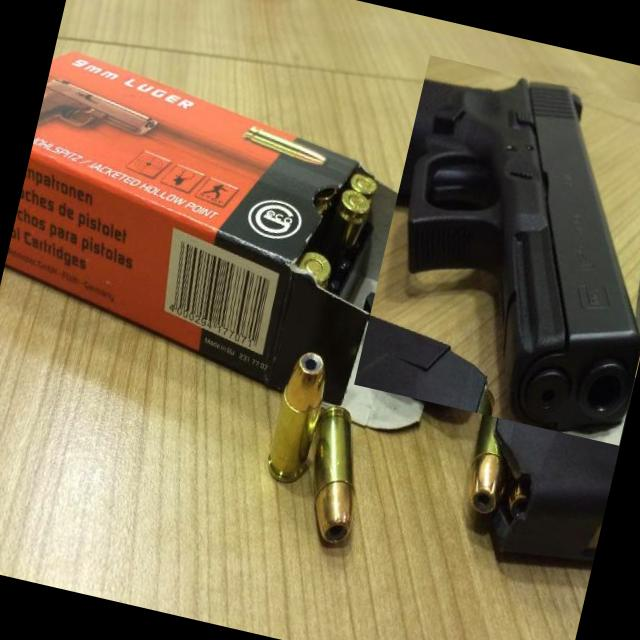Gun: (396, 80, 640, 431)
